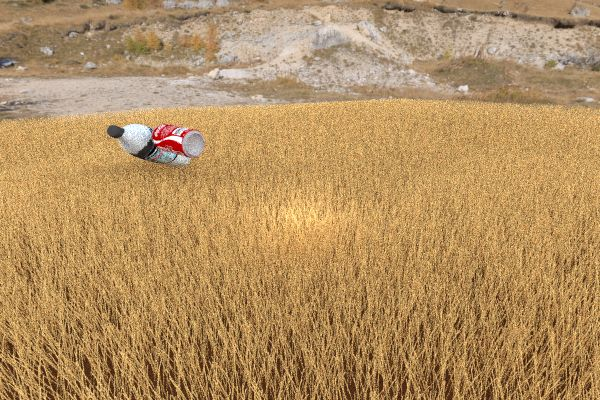bottle: (106, 124, 191, 168)
can: (151, 124, 204, 158)
